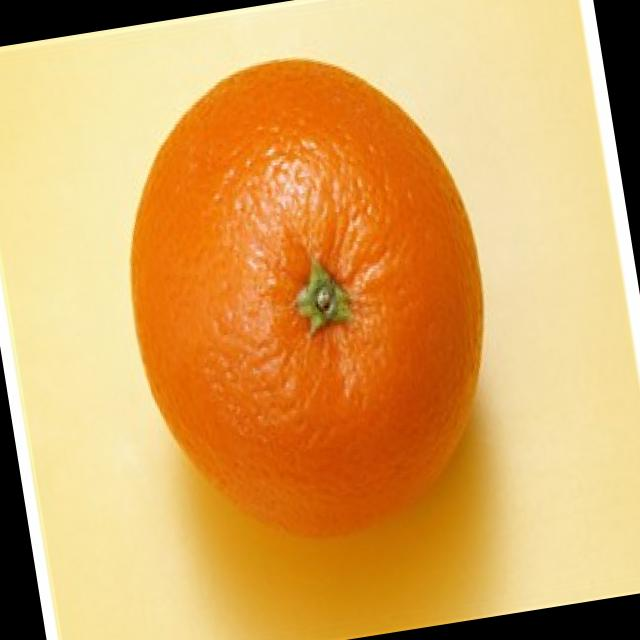orange: (94, 22, 532, 610)
